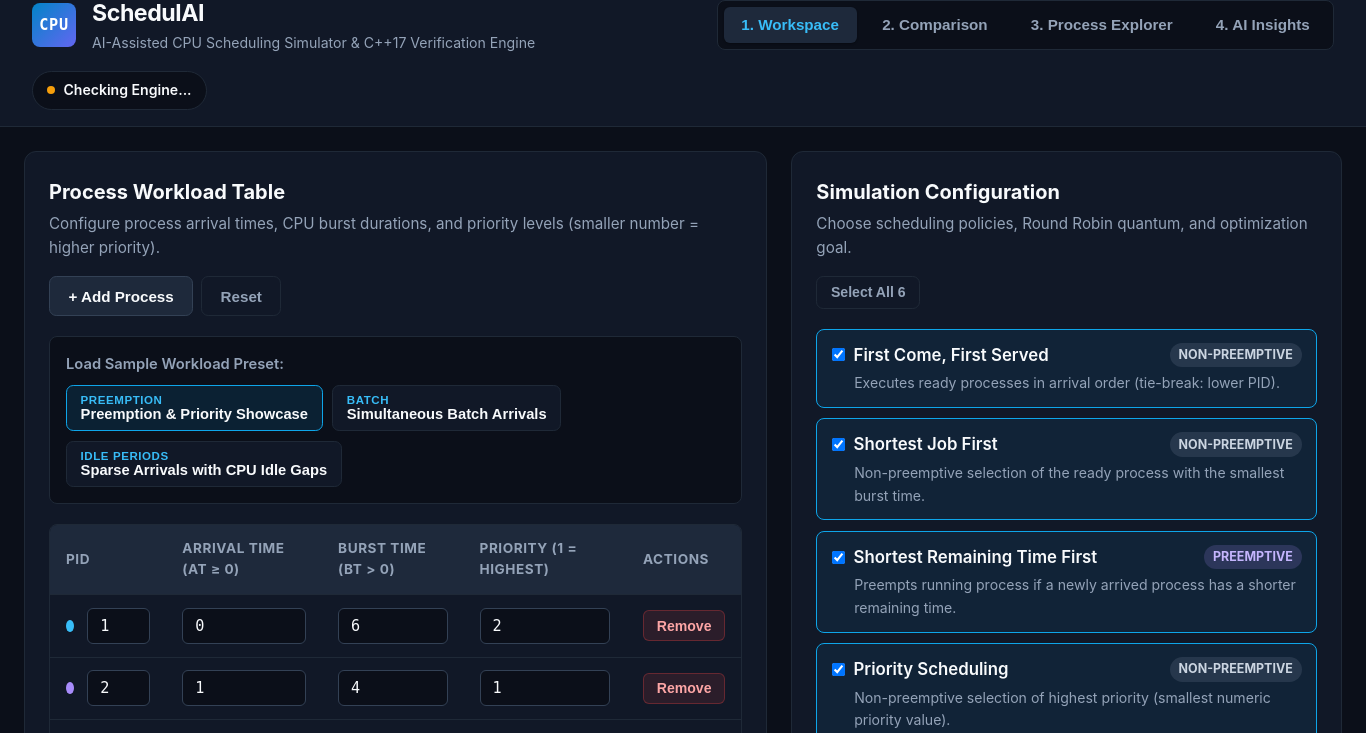
Scenario: SchedulAI Frontend Suite › renders Workspace, adds and removes processes, and validates invalid burst time
Check: the heading "Process Workload Table" is shown, box [49, 180, 285, 204]
# Add a 5th process
Step 1. Click the button "+ Add Process" → x=121, y=296, box [49, 276, 193, 316]
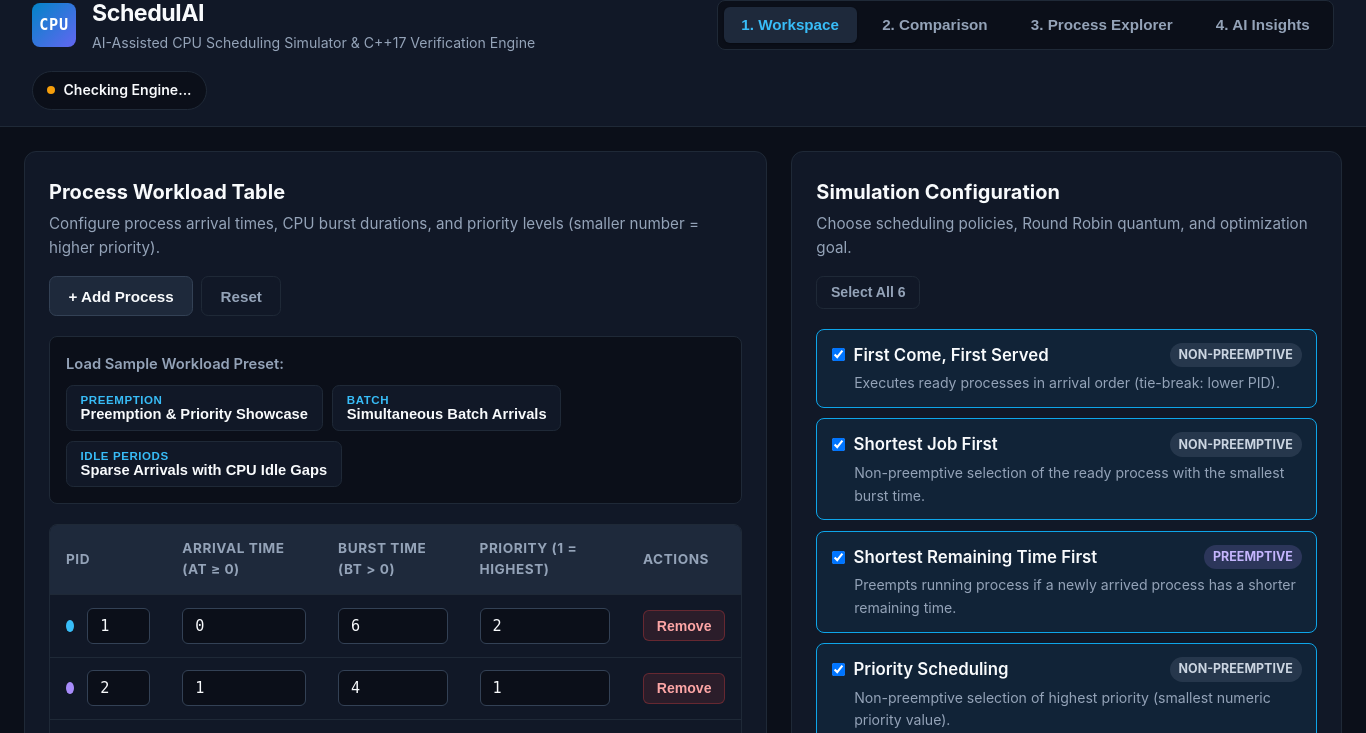
Step 2. Replace the text in the number field named "Process P1 Burst Time" with "0" → x=393, y=626, box [338, 608, 448, 644]
(page scrolled)
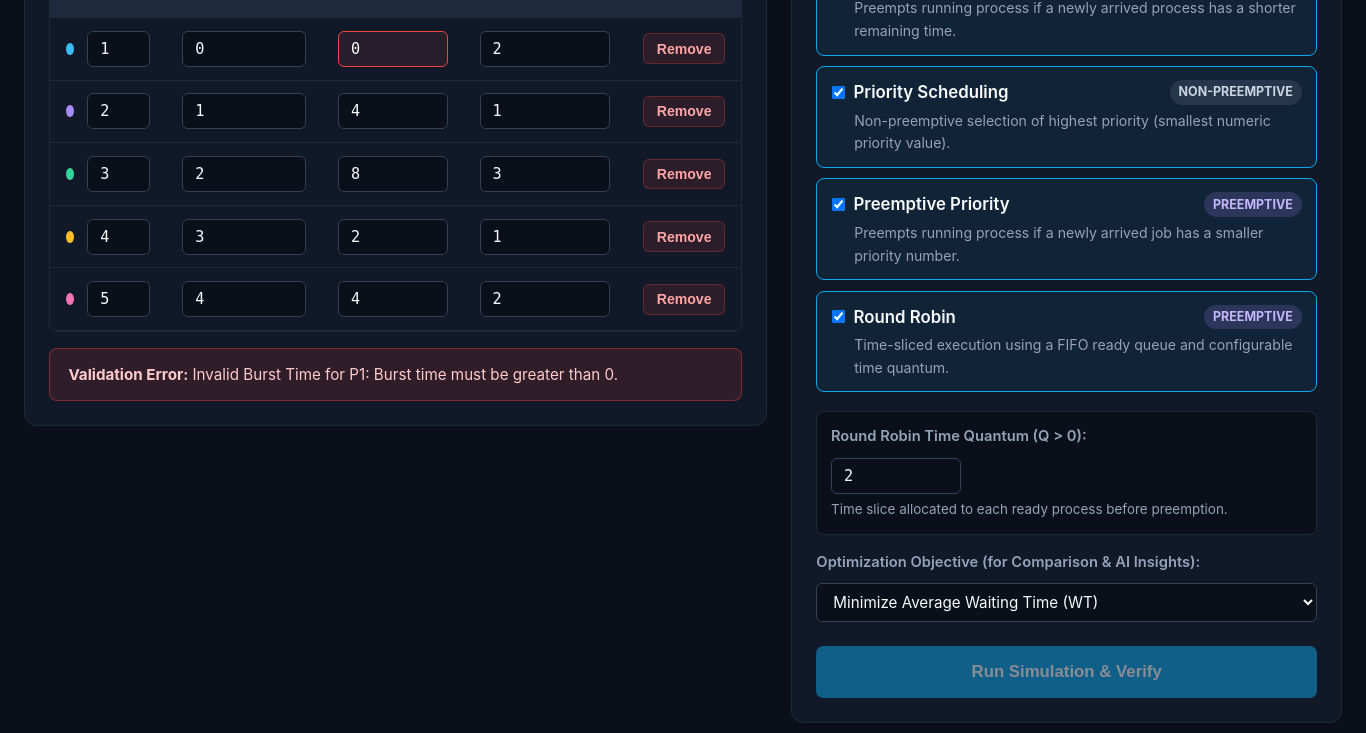
Check: the message shows "Burst time must be greater than 0", box [192, 364, 618, 384]
Check: the button "Run Simulation & Verify" is disabled, box [816, 646, 1317, 698]
